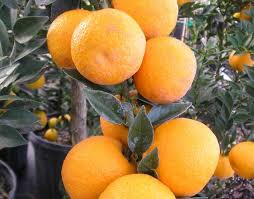orange: (54, 132, 133, 197), (76, 12, 141, 86), (151, 119, 216, 193), (140, 37, 196, 106)
